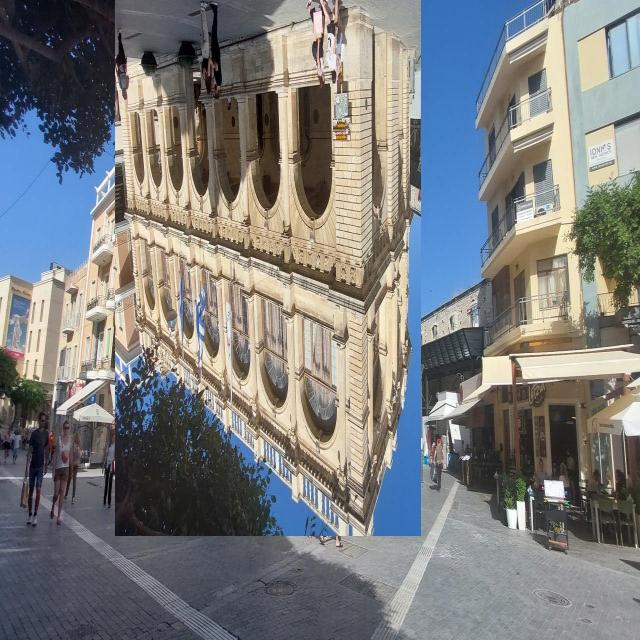Loggia: (116, 1, 422, 537)
